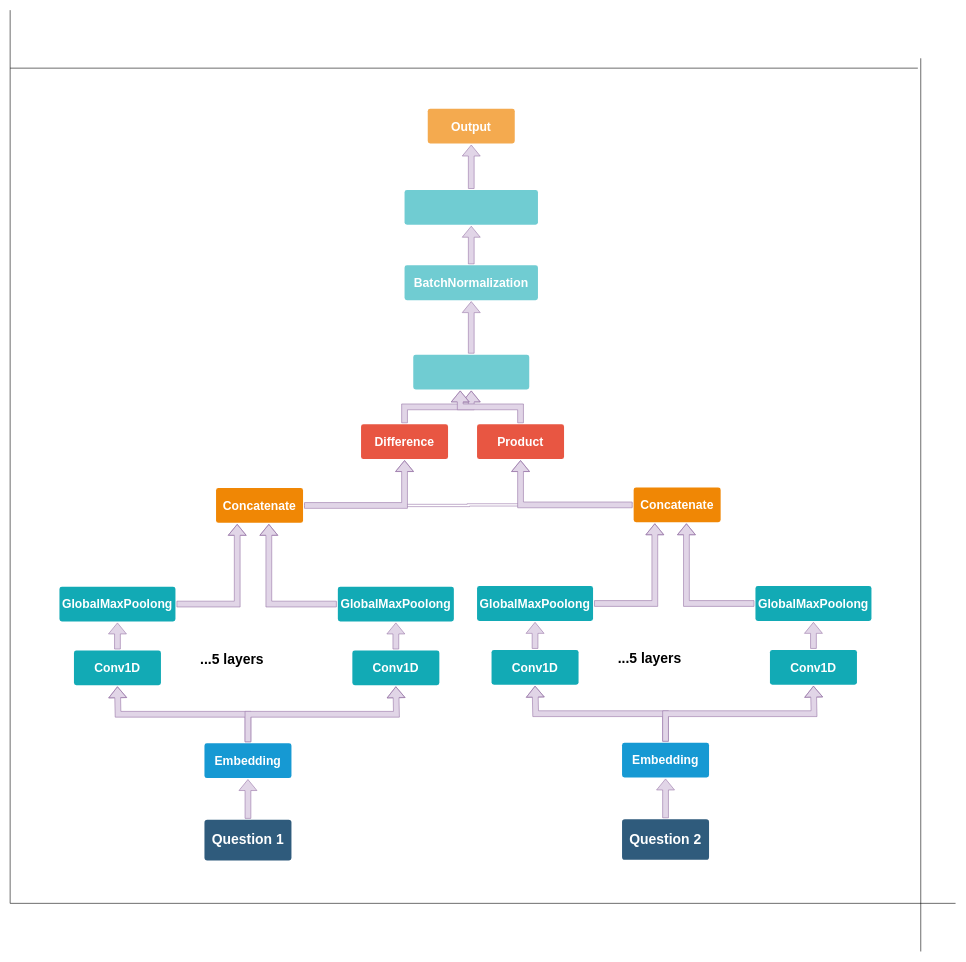
Image size: 966x962. Some labels were removed from this diagram. The centre of each missing label's shape, as x and y in pixels:
"Dense" belongs at pixel 471 207.
"Dropout" belongs at pixel 471 371.
